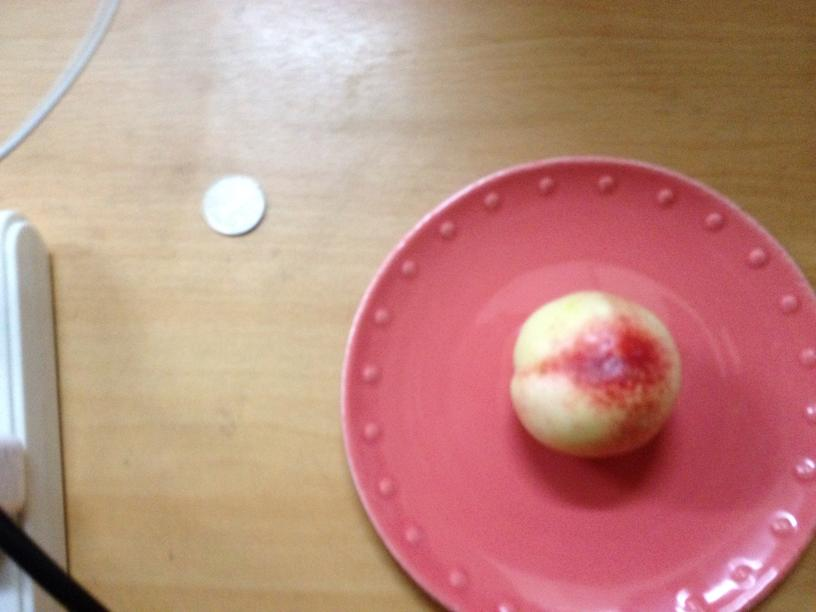coin: (200, 175, 265, 236)
peach: (508, 291, 677, 455)
